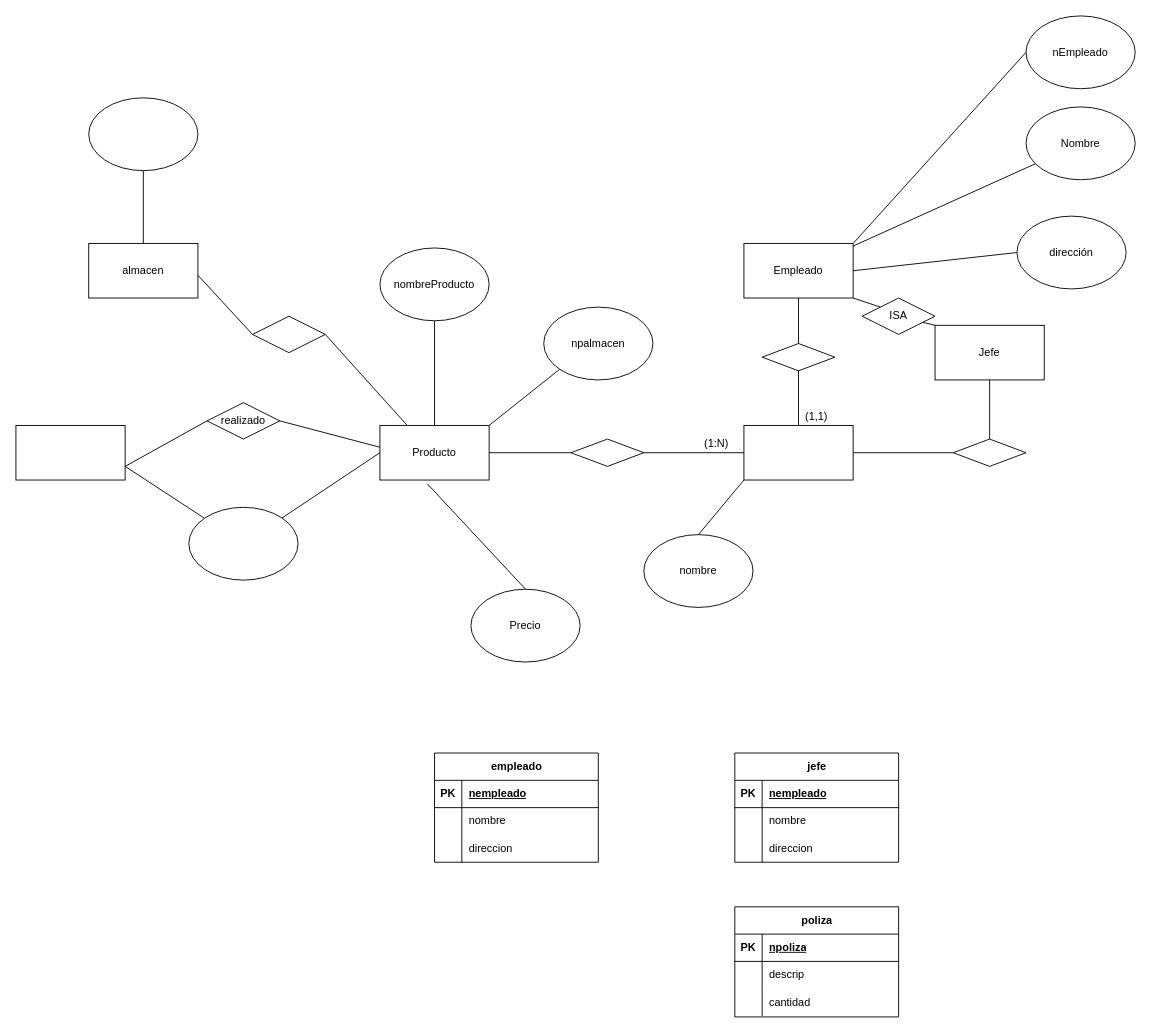
Image size: 1151x1033. Some labels were removed from this diagram. Here are the shapes that lost their labels. From the top down, the centre of each, then its label:
the point at 143,134: nalmacen
the point at 288,334: se guarda
the point at 798,357: trabaja
the point at 70,452: Fabricante
the point at 607,452: vende
the point at 798,452: Departamento
the point at 989,452: dirije
the point at 243,543: npfabricante
